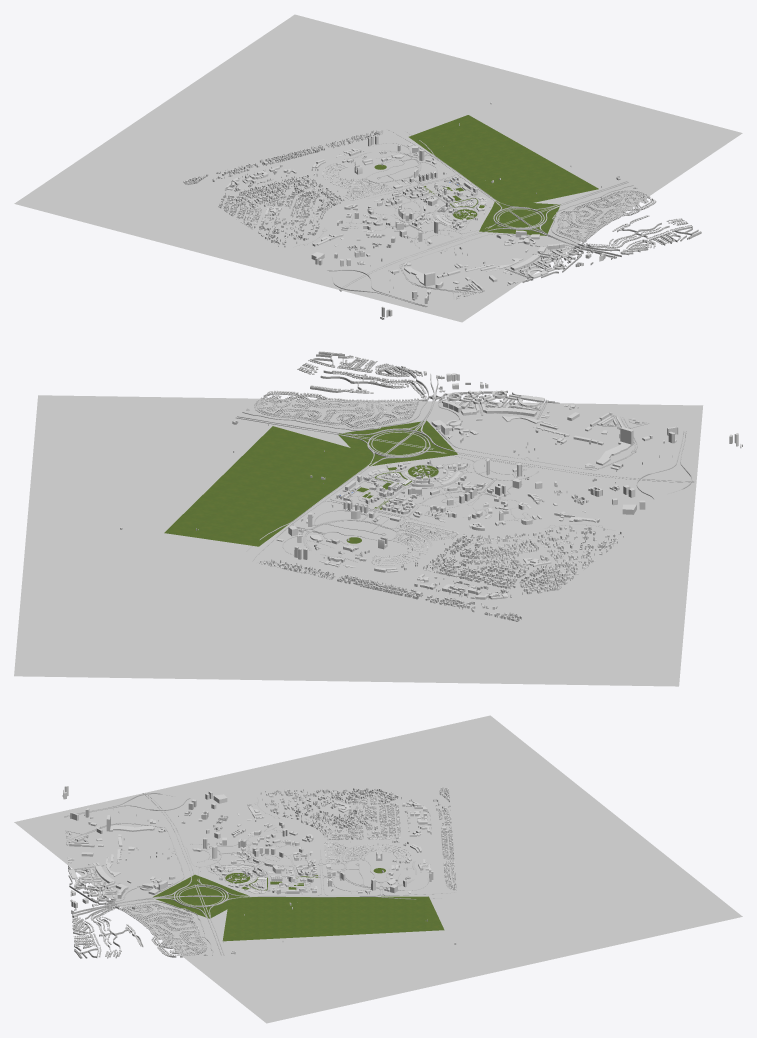
The model's file is Butterfly_mini_map.glb.
The picture shows the model from 3 angles, top to bottom: view 1: azimuth 30°, elevation 25°; view 2: azimuth 150°, elevation 25°; view 3: azimuth 270°, elevation 25°; orthographic projection. The views are drawn at different scales.
Parts seen in each view (by area): view 1: land, Build, tree, road; view 2: land, Build, tree, road; view 3: land, Build, tree, road.
Part boxes in pixels (box(x1,y1,x2,y2)): land: box(14, 14, 742, 322); Build: box(183, 102, 691, 317); tree: box(374, 115, 598, 235); road: box(293, 129, 701, 319); land: box(14, 395, 703, 686); Build: box(120, 355, 738, 621); tree: box(164, 420, 457, 546); road: box(235, 351, 742, 563); land: box(14, 715, 742, 1023); Build: box(63, 786, 456, 957); tree: box(153, 868, 444, 941); road: box(62, 793, 456, 958).
Bounding box in the file's own units: 15962 × 336 × 15962.
Materials: 5 (1 with a texture image).
